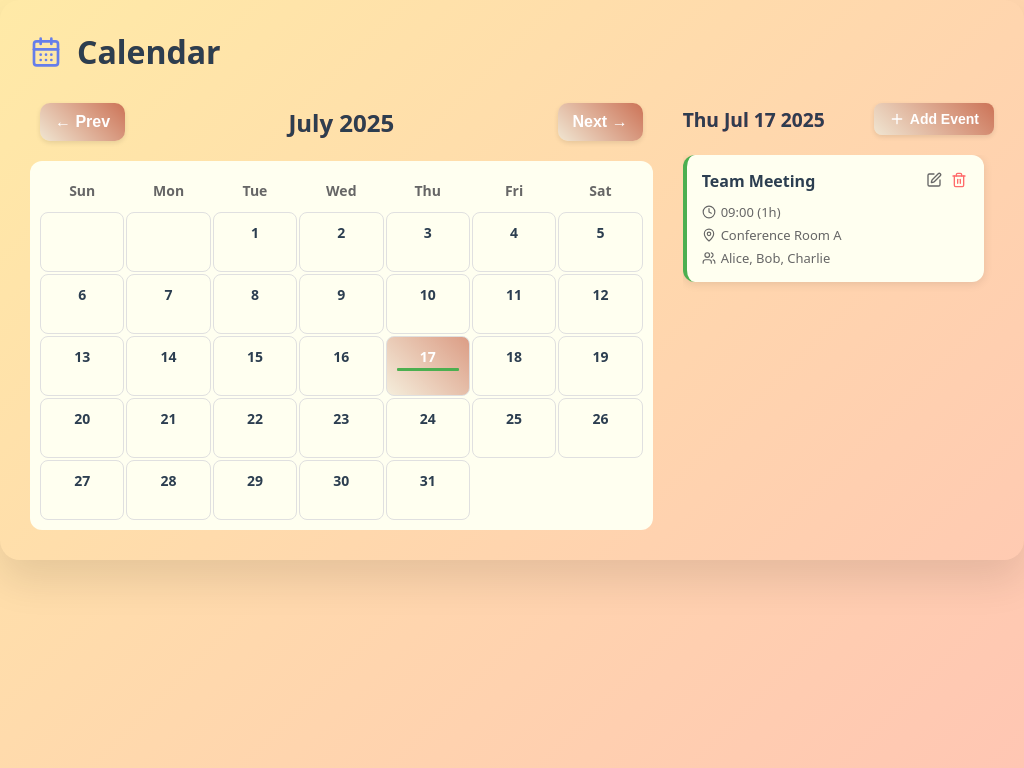
Test: Calendar Component › opens event form modal on Add Event click
Click the button "Add Event" at [934, 119], box [874, 103, 994, 135]
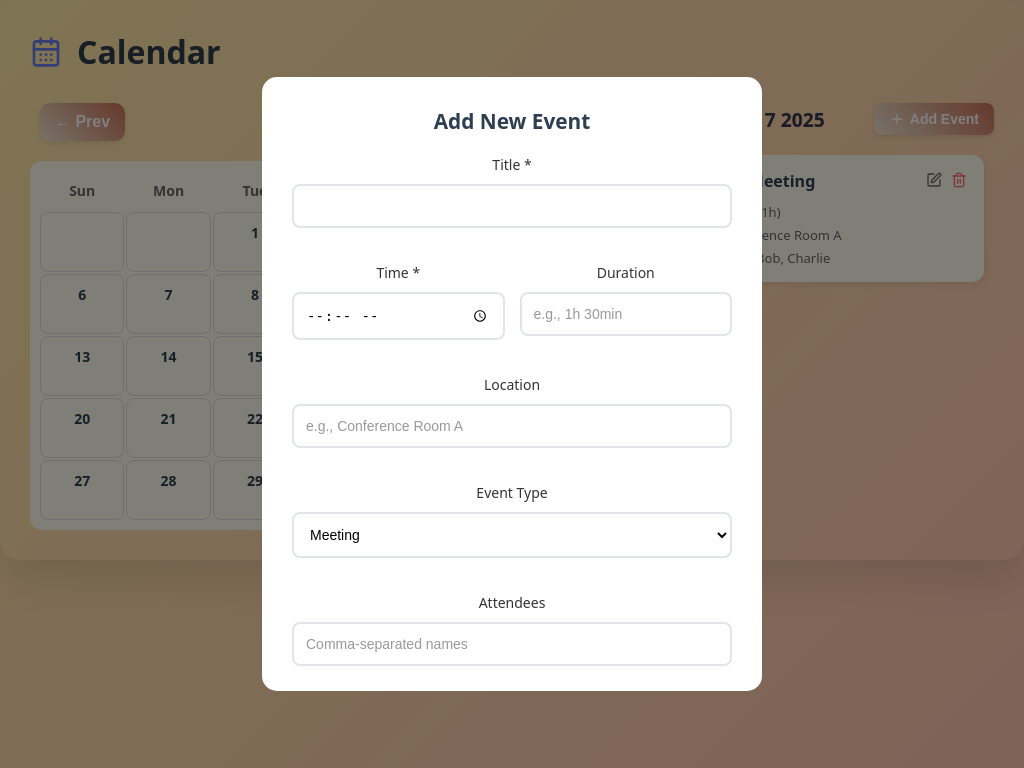
Expected: the heading "Add New Event" is shown, [434, 107, 590, 135]
